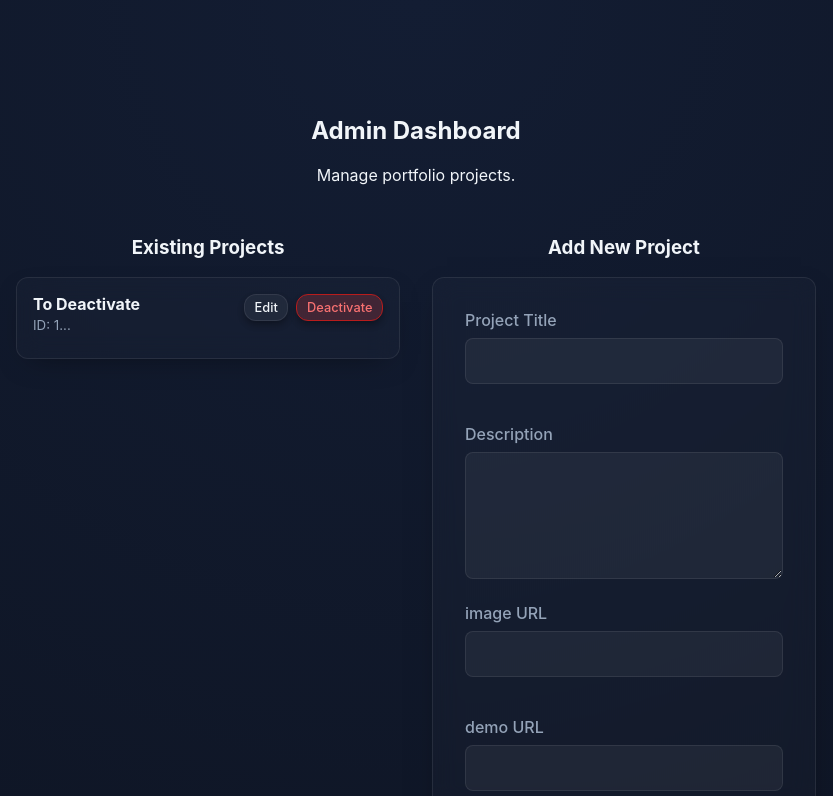
Scenario: AdminDashboard › toggles project status (deactivate)
The width and height of the screenshot is (833, 796).
Click the button "Deactivate": (340, 308) [296,294,383,321]
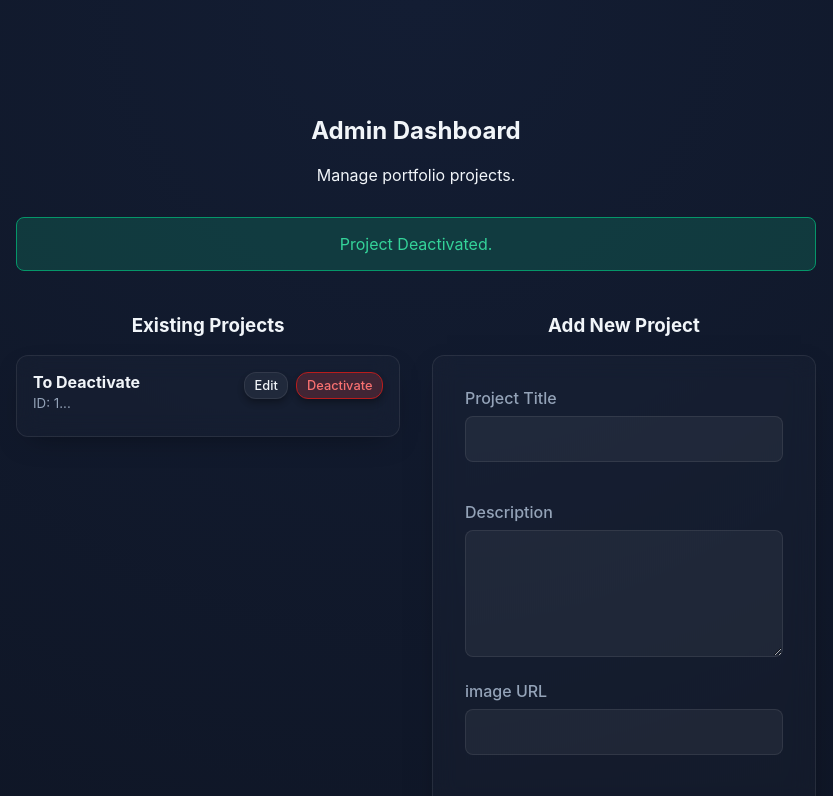
Check: the text "Project Deactivated." is shown, box [16,217,816,271]
